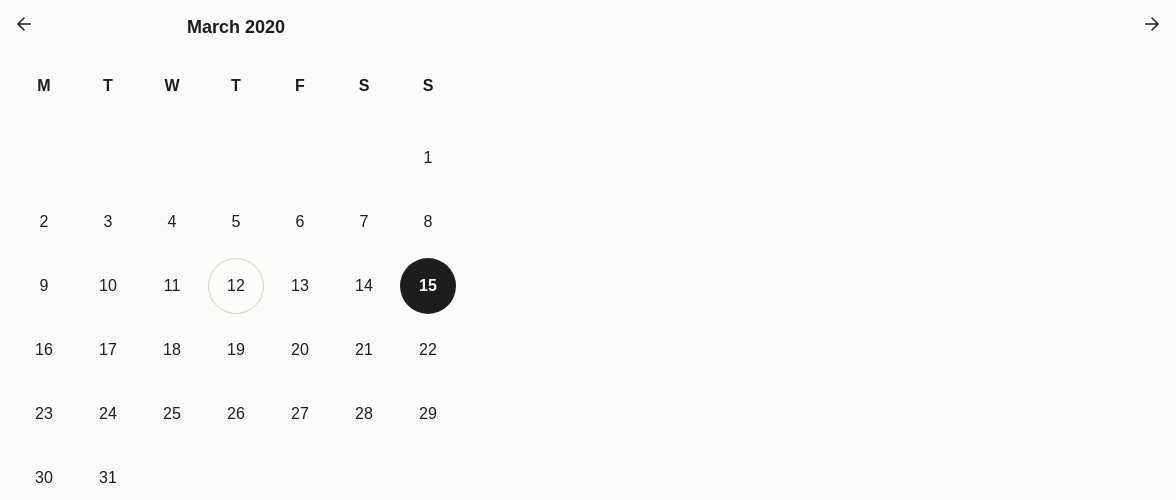
Test case: disabled dates › should keep a month button focusable once it becomes disabled
Click the 1st button named "previous month".
click(24, 24)  # box [12,12,36,36]
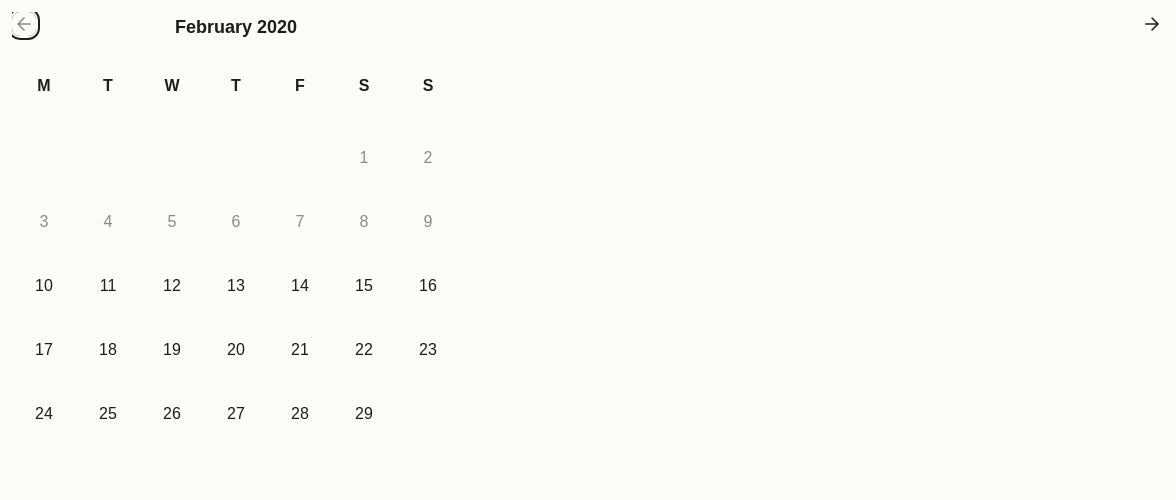
Expected: the heading "February 2020" is shown, [175,17,297,37]
Expected: the 1st button named "previous month" is enabled, [12,12,36,36]
